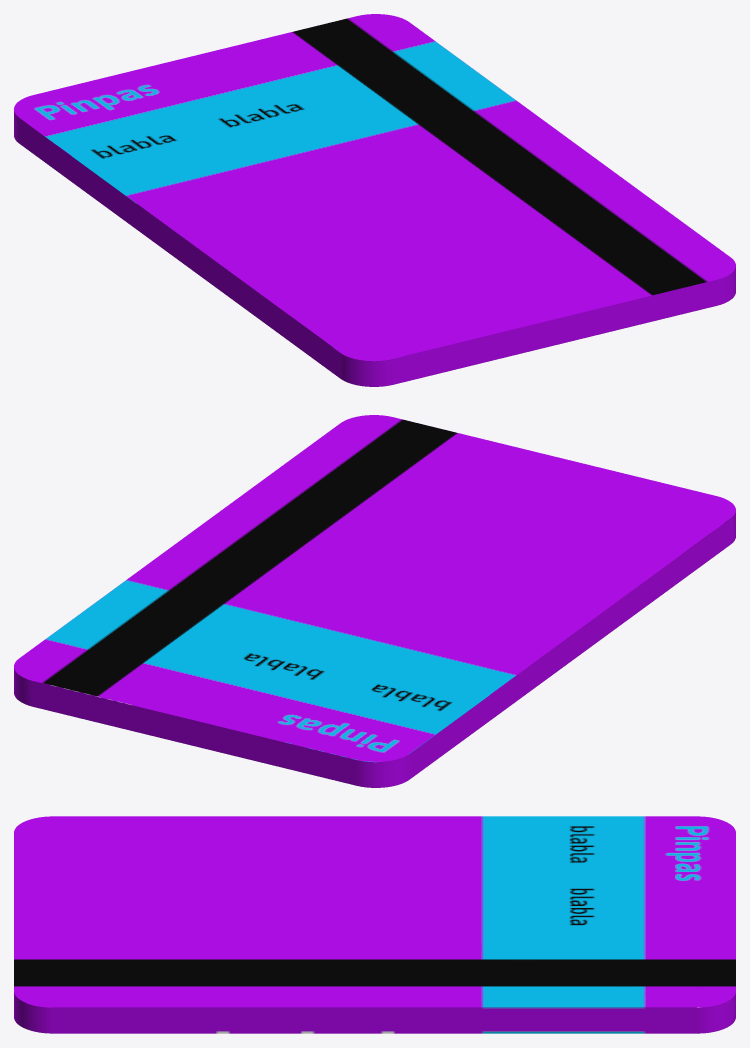
File: pinpasmodel.fbx
3 renders of one model, top to bottom at view 1: azimuth 30°, elevation 25°; view 2: azimuth 150°, elevation 25°; view 3: azimuth 270°, elevation 25°, orthographic.
Parts seen in each view (by area): view 1: Cube; view 2: Cube; view 3: Cube.
Part boxes in pixels (x1=…): Cube: x1=14, y1=14, x2=735, y2=386; Cube: x1=14, y1=415, x2=735, y2=787; Cube: x1=14, y1=816, x2=735, y2=1033.
Size of the model in its own units: 200 by 12.78 by 320.
